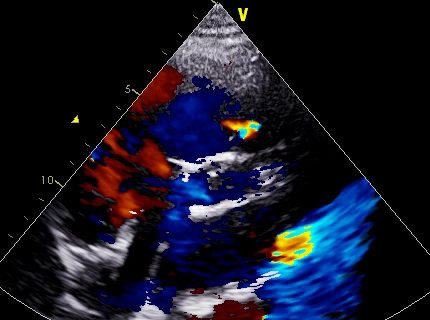TR: (122, 128, 195, 226)
